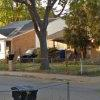Tree: (58, 0, 100, 79)
